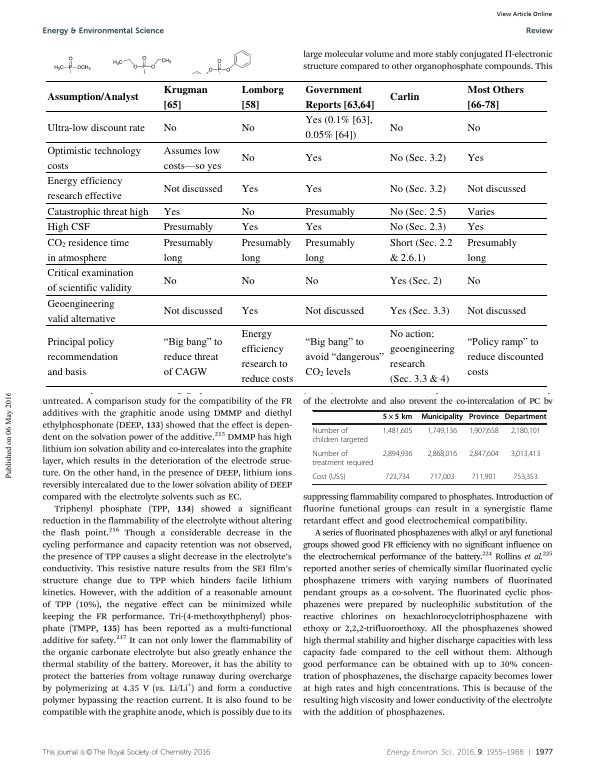borderless: (46, 79, 547, 386), (311, 409, 547, 484)
cell: (389, 327, 456, 386), (305, 333, 385, 379), (466, 333, 545, 378), (46, 335, 119, 378), (241, 327, 294, 386), (163, 333, 223, 378), (46, 144, 142, 172), (46, 266, 135, 295), (46, 236, 130, 264), (46, 174, 123, 203), (305, 82, 375, 111), (305, 113, 374, 142), (46, 297, 116, 325), (389, 236, 454, 264), (466, 82, 525, 111), (163, 144, 222, 173), (466, 236, 518, 264), (163, 236, 214, 264), (241, 236, 292, 264), (305, 236, 356, 264), (46, 205, 149, 218), (163, 82, 209, 111), (46, 90, 139, 104), (46, 121, 146, 134), (241, 82, 285, 111), (312, 449, 374, 467), (312, 426, 369, 444), (389, 304, 451, 318), (466, 304, 527, 318), (163, 304, 223, 318), (305, 304, 365, 318), (389, 151, 447, 165), (389, 220, 447, 234), (466, 182, 527, 195), (163, 182, 223, 195), (389, 182, 447, 195), (389, 205, 447, 218), (163, 220, 214, 234), (389, 274, 443, 287), (305, 205, 356, 218), (46, 220, 91, 234), (389, 90, 420, 104), (420, 413, 464, 422), (466, 205, 496, 218), (504, 413, 547, 422), (426, 426, 458, 436), (468, 426, 500, 436), (312, 472, 347, 481), (382, 426, 413, 436), (510, 426, 541, 436), (468, 413, 500, 422), (426, 449, 458, 458), (468, 449, 500, 458), (382, 413, 413, 422), (382, 449, 413, 458), (510, 449, 541, 458), (466, 151, 485, 165), (466, 220, 485, 234), (305, 151, 323, 165), (241, 220, 259, 234), (305, 220, 323, 234), (241, 304, 259, 318), (384, 472, 411, 481), (512, 472, 539, 481), (241, 182, 259, 195), (305, 182, 323, 195), (163, 205, 181, 218), (429, 472, 455, 481), (471, 472, 497, 481), (241, 151, 256, 165), (163, 121, 178, 134), (241, 121, 256, 134), (389, 121, 404, 134), (466, 121, 481, 134), (241, 205, 256, 218), (163, 274, 178, 287), (241, 274, 256, 287), (466, 274, 481, 287), (305, 274, 319, 287)
